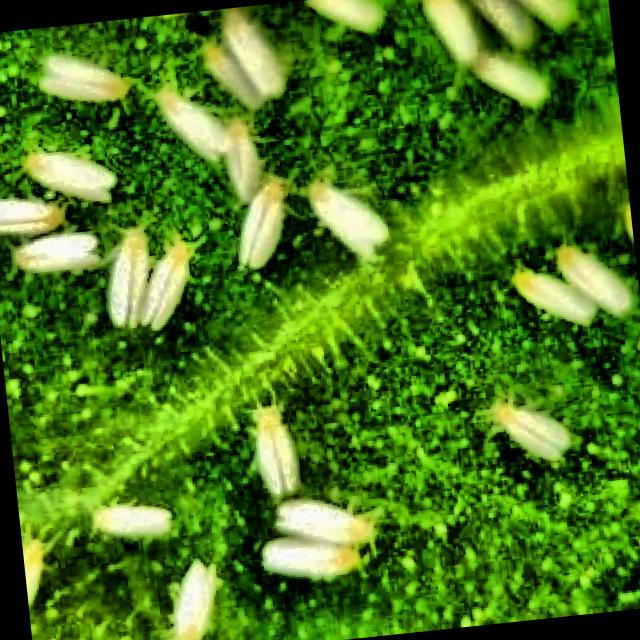whitefly: (204, 7, 286, 107), (309, 180, 388, 254), (159, 87, 231, 159), (558, 245, 632, 311), (492, 399, 570, 457), (28, 151, 117, 199), (514, 269, 594, 322), (278, 498, 373, 542), (41, 54, 129, 100), (109, 228, 150, 325), (240, 175, 284, 265), (255, 404, 299, 494), (475, 51, 547, 104), (152, 240, 192, 328), (264, 539, 360, 575), (174, 560, 217, 640), (428, 0, 482, 62), (15, 234, 101, 270), (225, 118, 259, 199), (478, 0, 532, 45), (0, 199, 65, 233), (95, 506, 170, 533), (24, 538, 44, 602), (522, 0, 570, 22)
